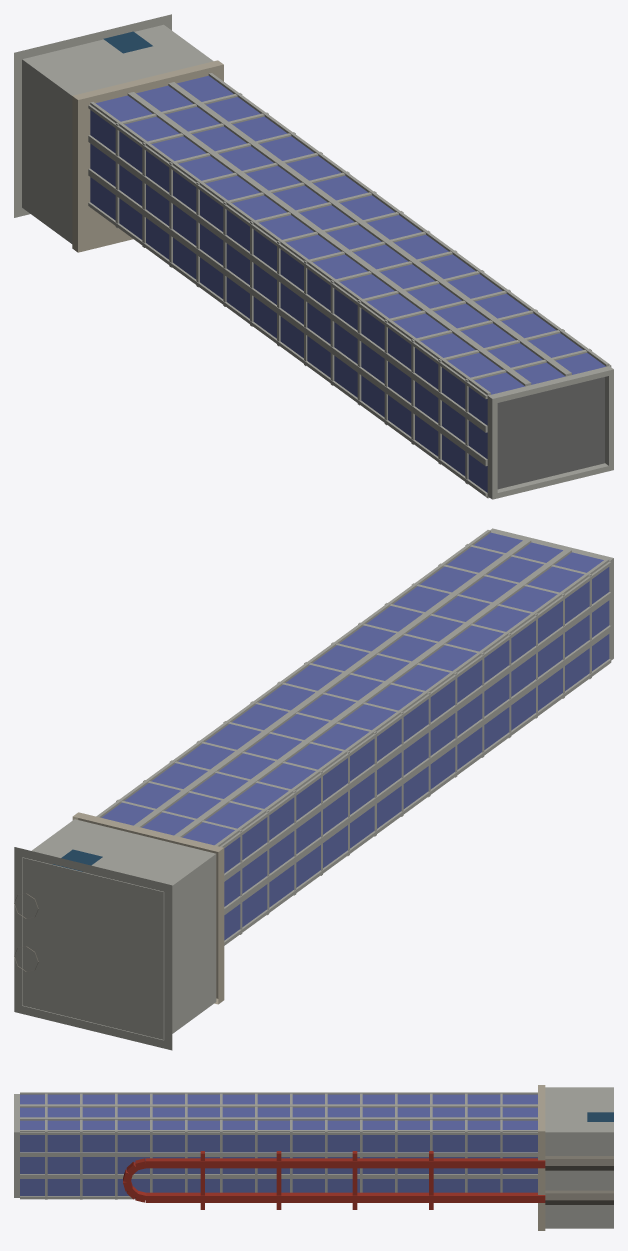
The model's file is complete.glb.
3 renders of one model, top to bottom at view 1: azimuth 30°, elevation 25°; view 2: azimuth 150°, elevation 25°; view 3: azimuth 270°, elevation 25°, orthographic. The views are drawn at different scales.
Parts seen in each view (by area): view 1: complete; view 2: complete; view 3: complete.
Part boxes in pixels (x1,y1,x2,y2): complete: (14, 14, 613, 499); complete: (14, 528, 613, 1050); complete: (14, 1085, 613, 1230).
Bounding box in the file's own units: 15.6 × 15.6 × 78.8.
